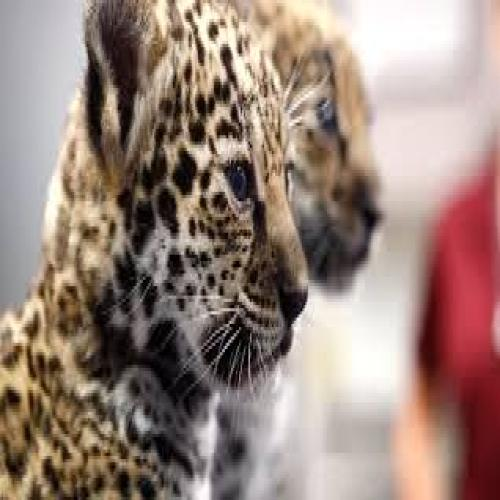jaguar_not-endangered: (9, 9, 299, 500), (279, 0, 386, 298)
